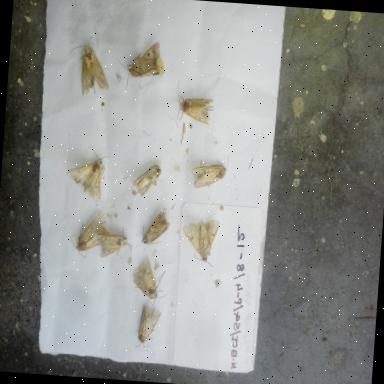abw: (61, 31, 115, 106), (62, 140, 115, 210), (111, 35, 168, 98), (175, 212, 222, 272), (127, 252, 175, 310), (65, 206, 110, 266), (170, 76, 218, 132), (128, 300, 164, 358), (188, 155, 230, 192), (128, 159, 164, 200), (138, 208, 172, 250), (96, 227, 130, 264)
